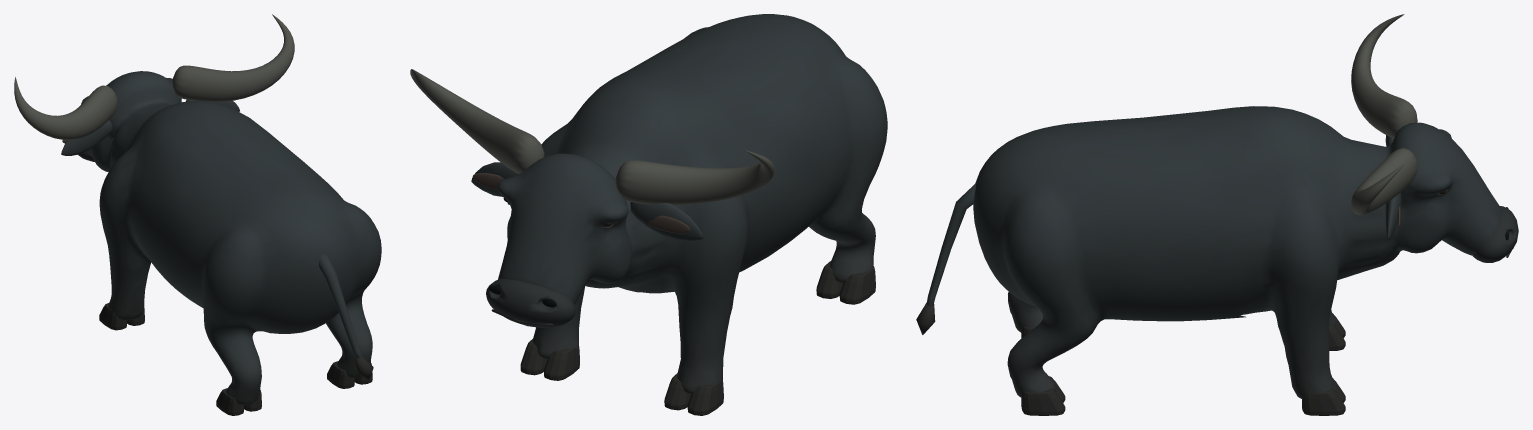
Rendered from buffalo.glb.
3 renders of one model, left to right at view 1: azimuth 30°, elevation 25°; view 2: azimuth 150°, elevation 25°; view 3: azimuth 270°, elevation 25°, orthographic. The views are drawn at different scales.
Visible parts, largest first — view 1: Body, Horn_R, Horn_L, Tail, Ear_L, RearHoof_R_Inner, RearHoof_L_Inner, FrontHoof_L_Inner; view 2: Body, Horn_L, Horn_R, Muzzle, Ear_L, RearHoof_L_Inner, FrontHoof_L_Inner, FrontHoof_R_Inner, FrontHoof_L_Outer, RearHoof_L_Outer, FrontHoof_R_Outer, Ear_R (+1 smaller); view 3: Body, Horn_L, Horn_R, Tail, Muzzle, RearHoof_R_Outer, FrontHoof_R_Outer.
Boxes of the visible parts, x1,y1,x2,y2 form: Body: (81,71,381,405); Horn_R: (172,14,294,101); Horn_L: (14,77,117,139); Tail: (319,254,362,358); Ear_L: (61,120,112,155); RearHoof_R_Inner: (327,361,354,388); RearHoof_L_Inner: (216,388,243,415); FrontHoof_L_Inner: (99,303,126,330); Body: (497,14,887,394); Horn_L: (615,150,774,204); Horn_R: (410,69,544,173); Muzzle: (486,279,575,327); Ear_L: (630,202,703,240); RearHoof_L_Inner: (839,266,875,304); FrontHoof_L_Inner: (687,379,723,415); FrontHoof_R_Inner: (544,344,579,380); FrontHoof_L_Outer: (664,373,690,410); RearHoof_L_Outer: (816,261,842,298); FrontHoof_R_Outer: (520,339,547,375); Ear_R: (471,162,518,196); Body: (973,106,1501,398); Horn_L: (1351,14,1417,138); Horn_R: (1351,148,1417,215); Tail: (926,183,976,306); Muzzle: (1473,206,1518,262); RearHoof_R_Outer: (1021,388,1065,415); FrontHoof_R_Outer: (1302,388,1345,415).
Size of the model in its own units: 2.56 by 2.12 by 4.05.
8 materials, 1 textured.
